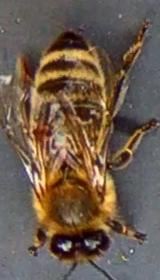varroa_mite: (28, 115, 53, 146)
